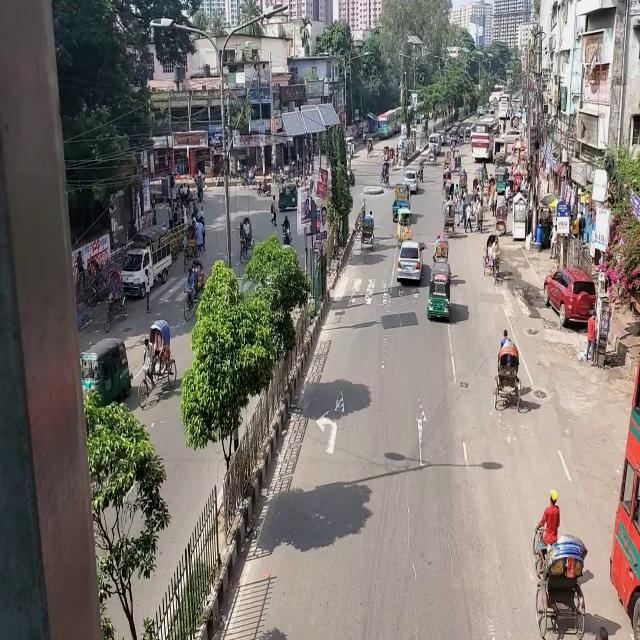silver: (396, 240, 424, 285)
